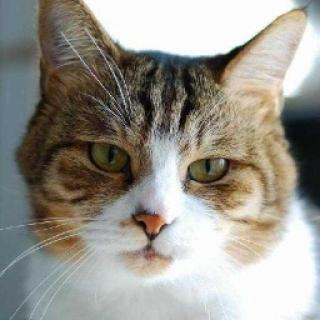cat: (20, 0, 314, 294)
nose: (130, 179, 181, 244)
